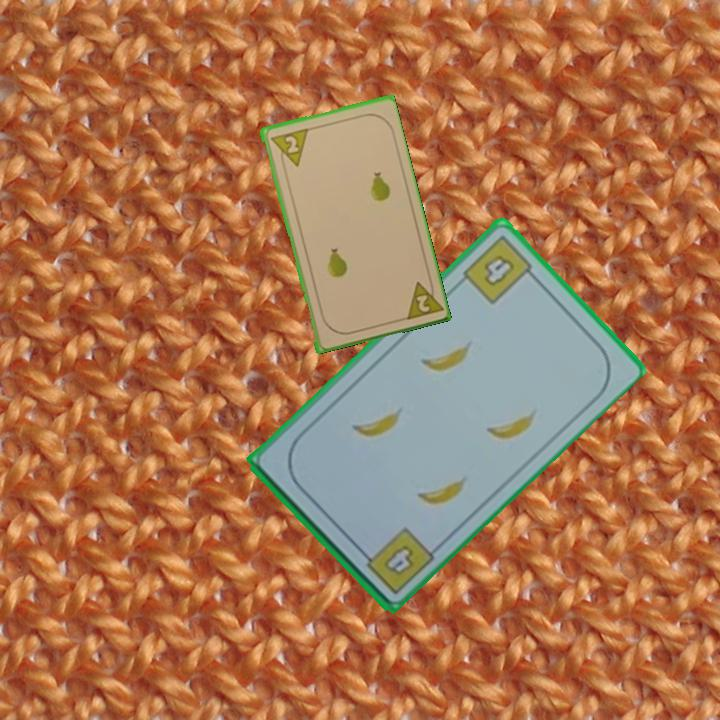2p: (400, 274, 444, 323), (267, 125, 310, 172)
4b: (458, 231, 540, 308), (355, 523, 437, 597)
